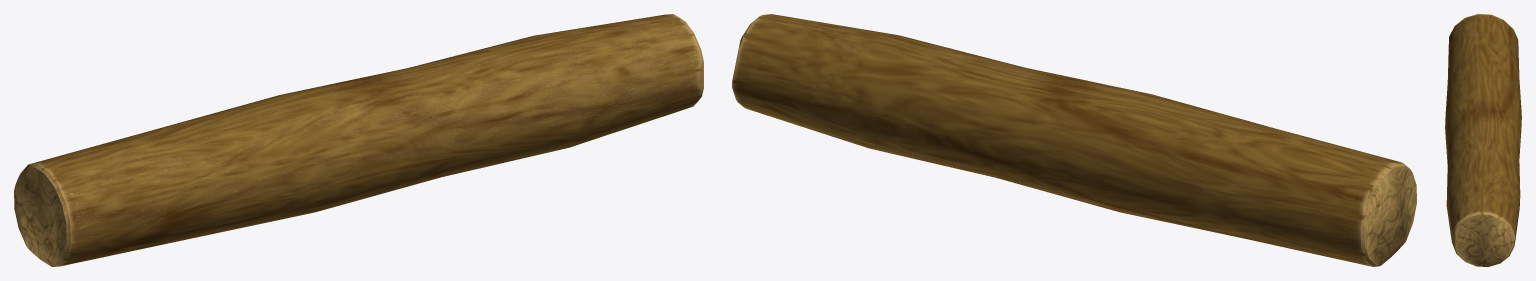
The model's file is Log2.fbx.
The picture shows the model from 3 angles, left to right: view 1: azimuth 30°, elevation 25°; view 2: azimuth 150°, elevation 25°; view 3: azimuth 270°, elevation 25°; orthographic projection. The views are drawn at different scales.
Visible parts, largest first — view 1: Log2_LOD0; view 2: Log2_LOD0; view 3: Log2_LOD0.
Boxes of the visible parts, box(x1,y1,x2,y2) form: Log2_LOD0: box(14, 14, 703, 266); Log2_LOD0: box(732, 14, 1416, 266); Log2_LOD0: box(1445, 14, 1521, 266).
Size of the model in its own units: 219 by 36.05 by 36.05.
Materials: 1 (1 with a texture image).
